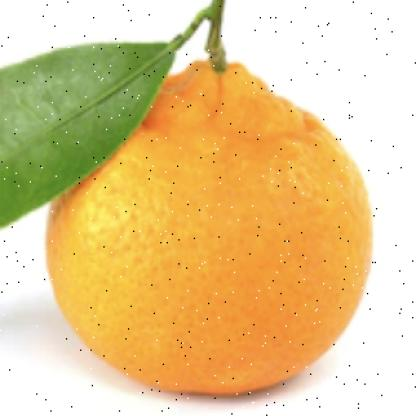fresh: (46, 52, 373, 399)
